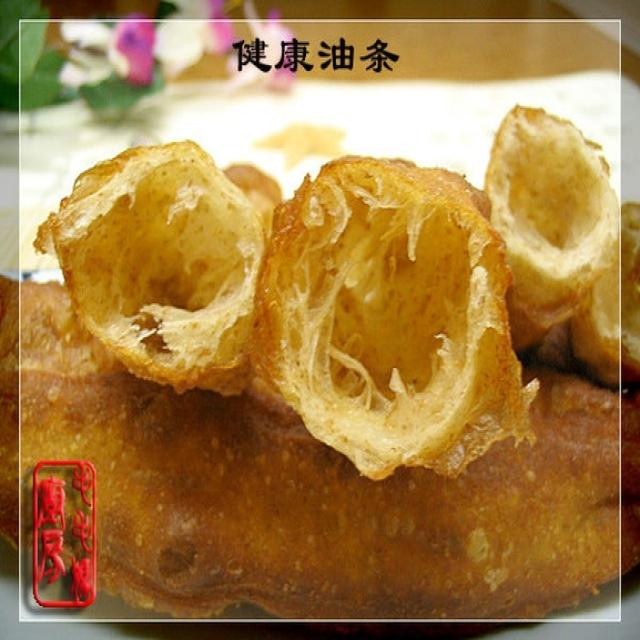炸货点心: (15, 40, 608, 624)
